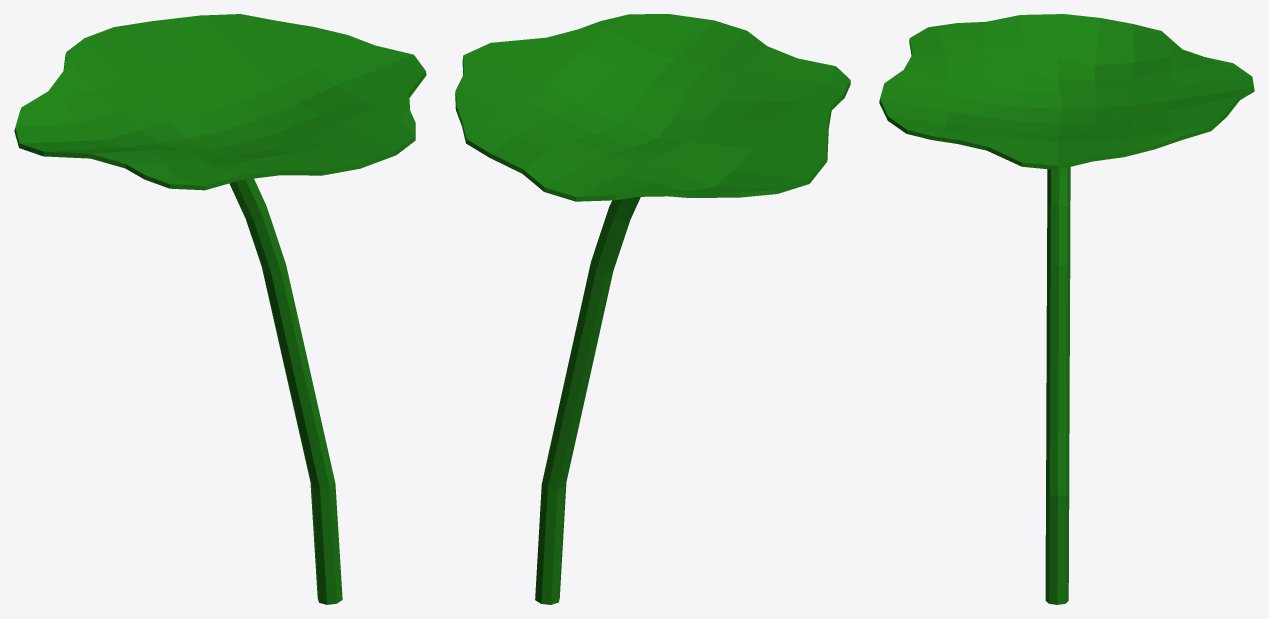
File: HOJALOTO3.fbx
The picture shows the model from 3 angles, left to right: view 1: azimuth 30°, elevation 25°; view 2: azimuth 150°, elevation 25°; view 3: azimuth 270°, elevation 25°; orthographic projection. The views are drawn at different scales.
Visible parts, largest first — view 1: Plane.004; view 2: Plane.004; view 3: Plane.004.
Boxes of the visible parts, x1=… form: Plane.004: x1=14, y1=14, x2=426, y2=604; Plane.004: x1=455, y1=14, x2=850, y2=604; Plane.004: x1=879, y1=14, x2=1254, y2=604.
Size of the model in its own units: 267 by 360 by 259.
